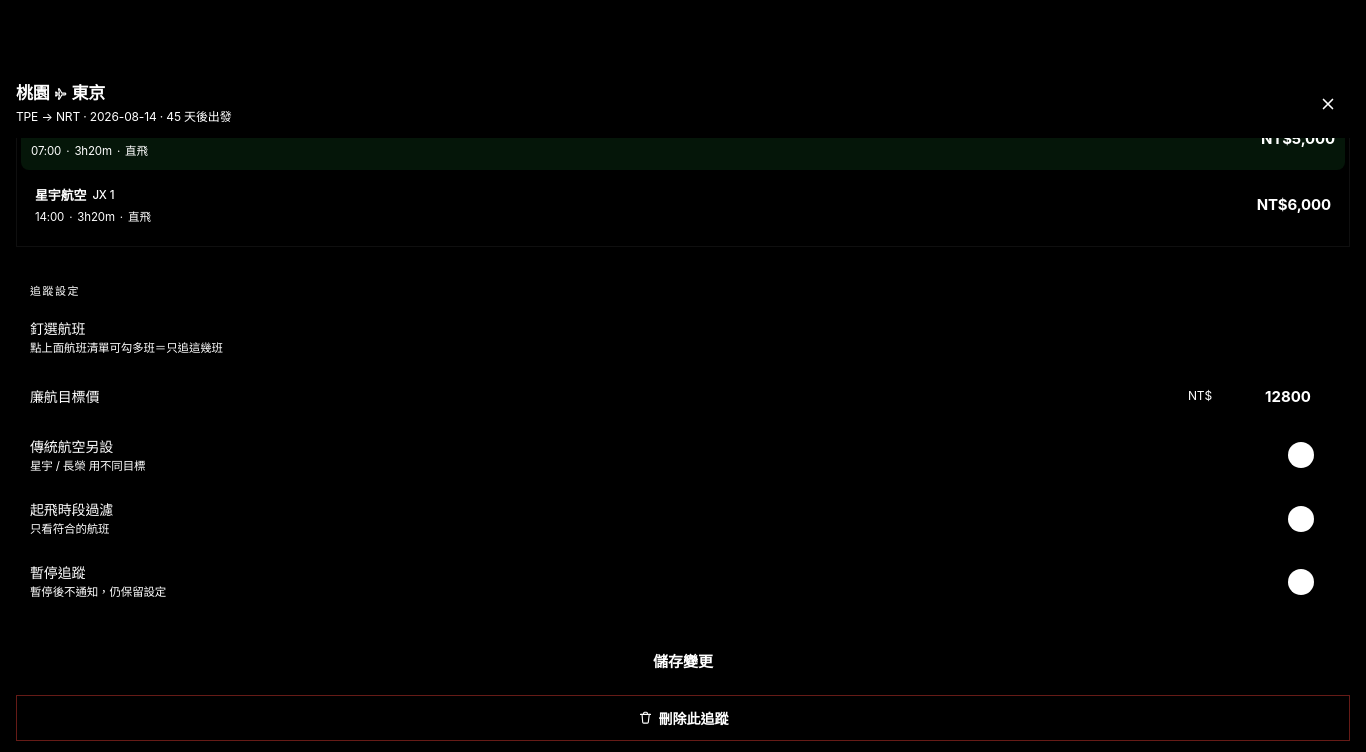
WatchDetailSheet › 航班清單即時套用時段 — 時段外班次被隱藏 + 顯示已隱藏數
(page scrolled)
Expected: the text "JX 1" is shown, [92,187,114,205]
Expected: the text "已隱藏" is not shown
Click the switch named "起飛時段過濾" at x=1311, y=519, box [1286,504,1336,534]
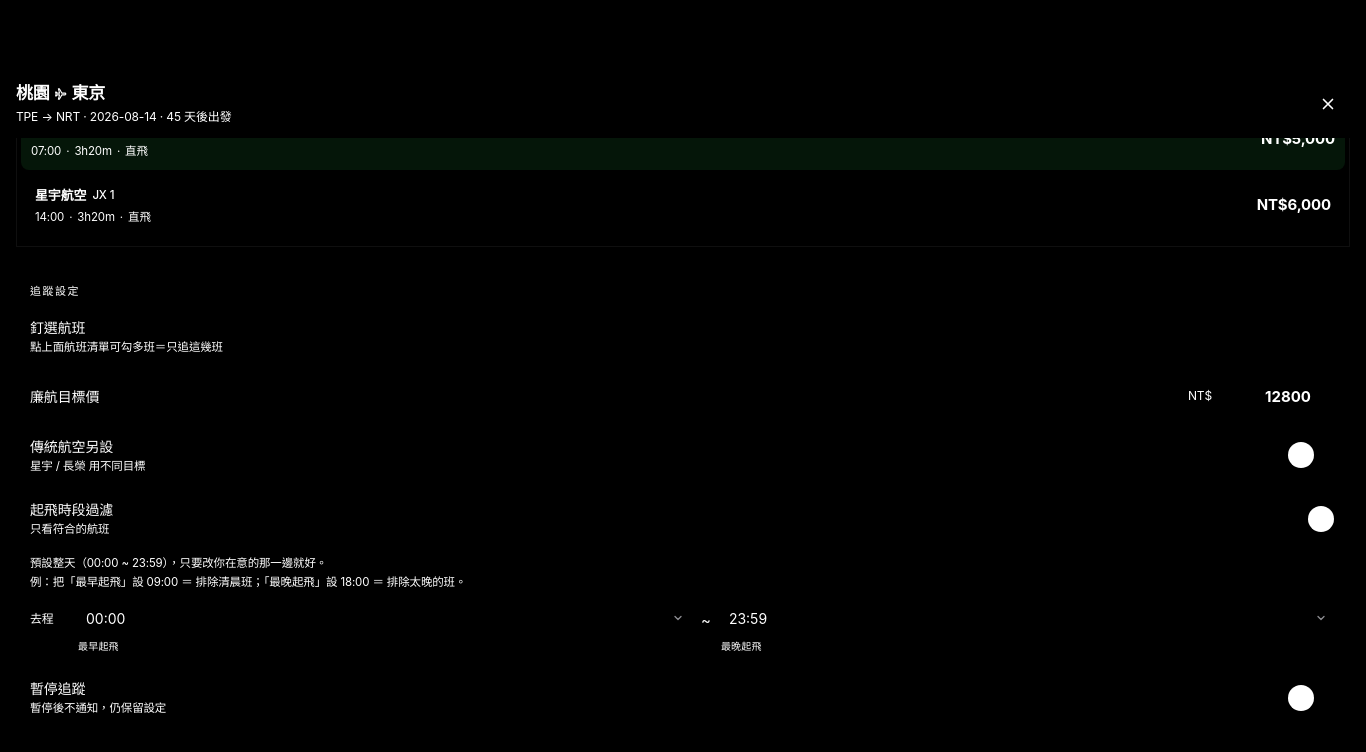
Select "09:00" in the dropdown named "去程最早起飛" at x=385, y=618, box [76,601,693,636]
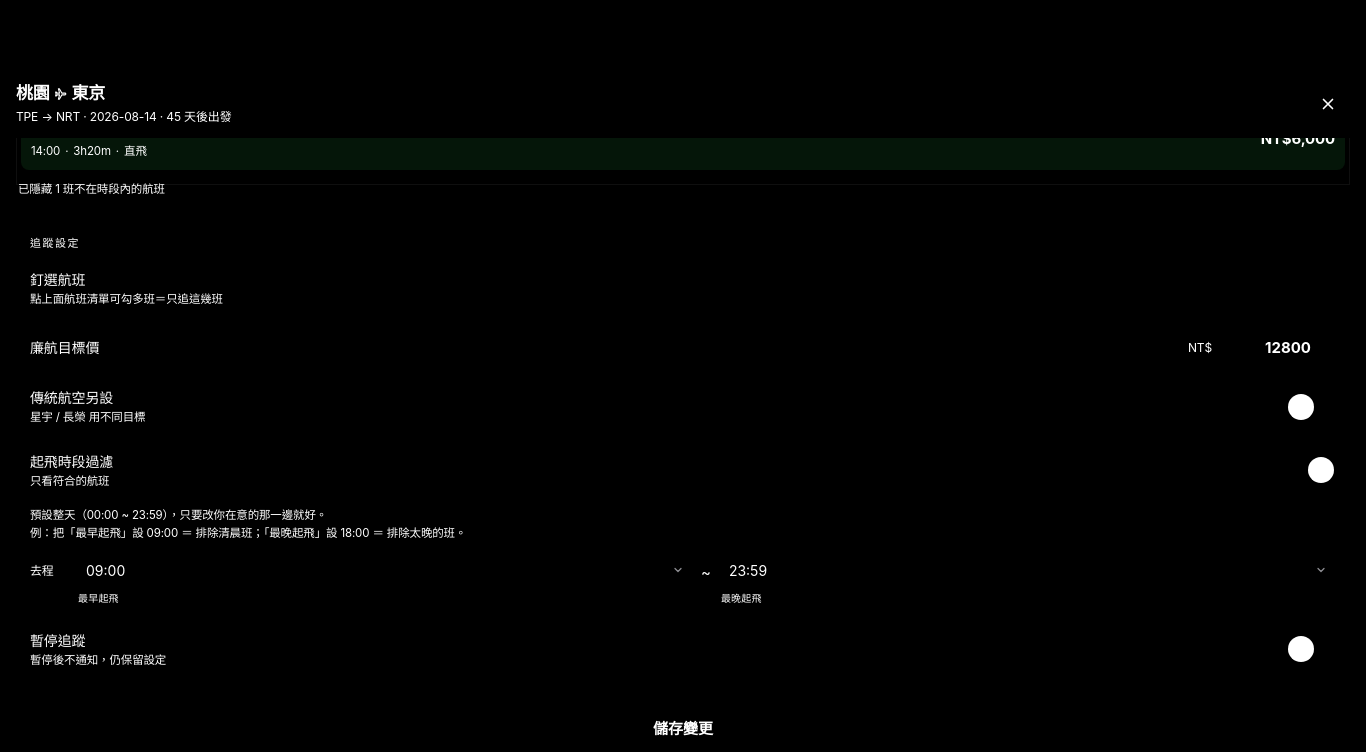
Expected: the text "TR 1" is not shown
Expected: the text "已隱藏 1 班" is shown, [18,182,165,196]
